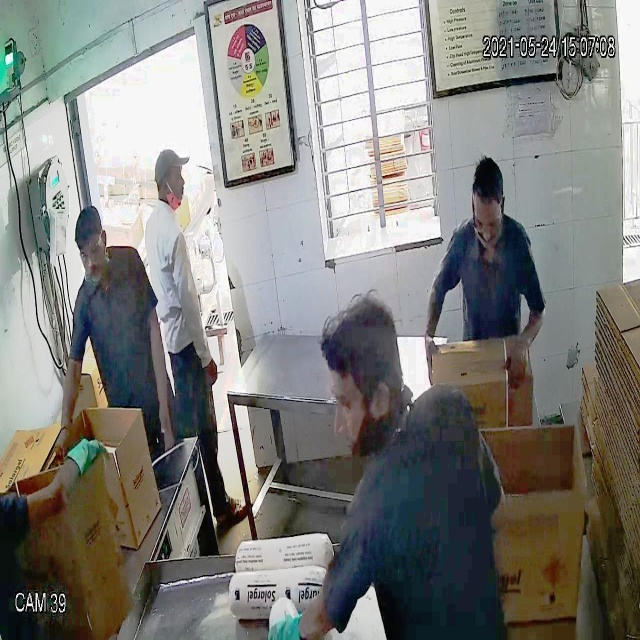Gafas: (471, 202, 506, 238), (74, 234, 105, 267)
